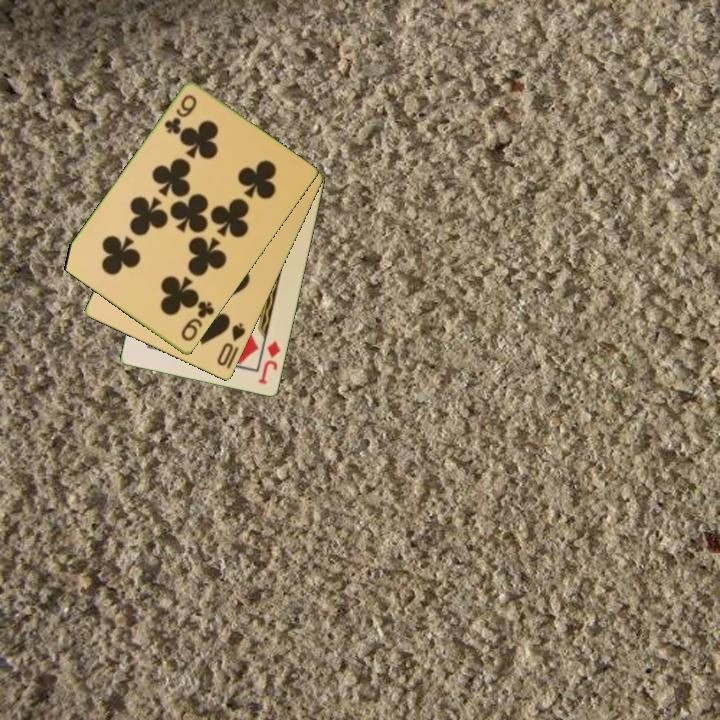10s: (213, 319, 248, 369)
9c: (177, 297, 217, 345), (161, 91, 200, 138)
Jd: (255, 338, 283, 387)
